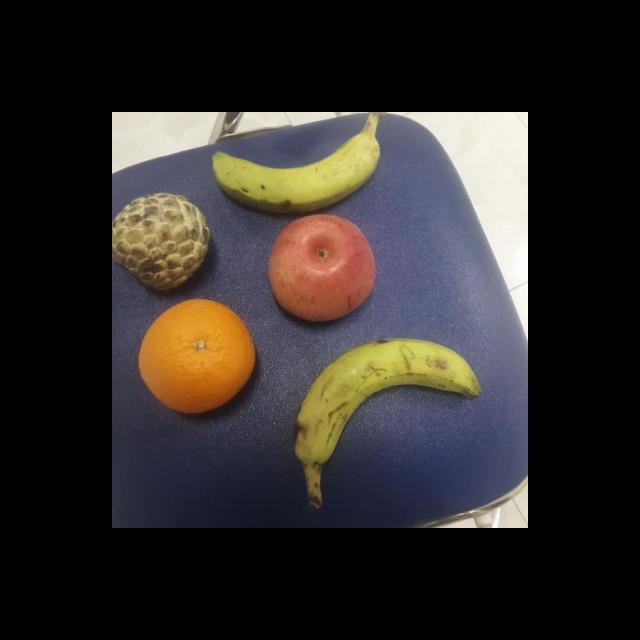Sakya fruit: (112, 190, 211, 291)
apple: (269, 214, 376, 322)
banana: (290, 336, 482, 508), (212, 112, 390, 213)
orange: (138, 298, 256, 412)
